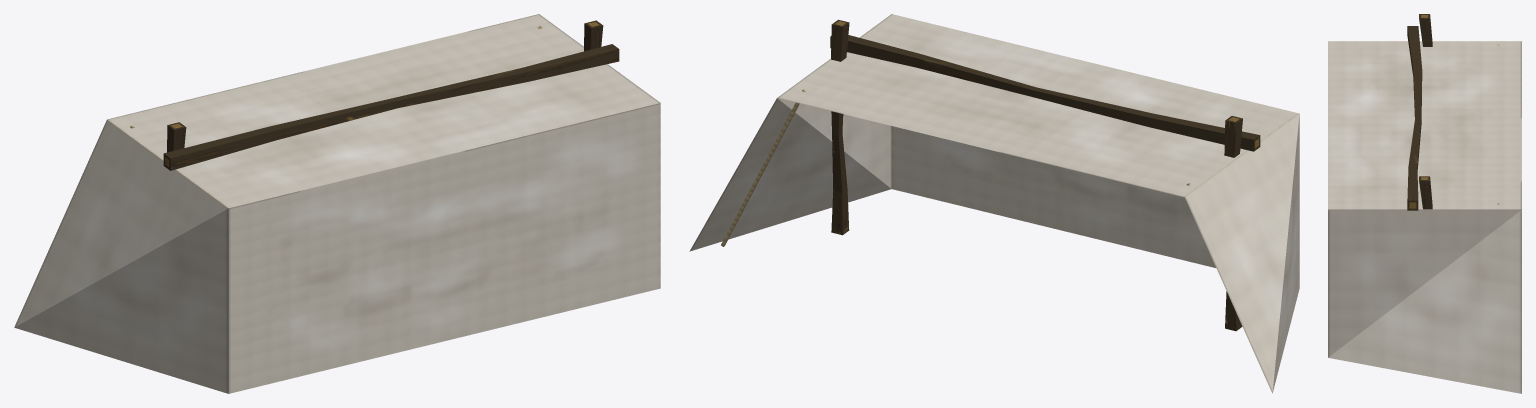
File: tent.obj
The picture shows the model from 3 angles, left to right: view 1: azimuth 30°, elevation 25°; view 2: azimuth 150°, elevation 25°; view 3: azimuth 270°, elevation 25°; orthographic projection. The views are drawn at different scales.
Visible parts, largest first — view 1: Mesh01_Mesh01.002, Mesh04_Mesh04.002; view 2: Mesh01_Mesh01.002, Mesh04_Mesh04.002, Mesh06_Mesh06.001, Mesh05_Mesh05.002, Mesh03_Mesh03.002; view 3: Mesh01_Mesh01.002, Mesh04_Mesh04.002, Mesh06_Mesh06.001, Mesh05_Mesh05.002.
Part boxes in pixels (x1,y1,x2,y2): Mesh01_Mesh01.002: (14,14,660,393); Mesh04_Mesh04.002: (163,44,619,170); Mesh01_Mesh01.002: (689,14,1299,393); Mesh04_Mesh04.002: (830,35,1260,151); Mesh06_Mesh06.001: (831,19,849,235); Mesh05_Mesh05.002: (1224,116,1242,331); Mesh03_Mesh03.002: (721,89,806,246); Mesh01_Mesh01.002: (1328,41,1521,393); Mesh04_Mesh04.002: (1407,26,1422,210); Mesh06_Mesh06.001: (1419,176,1432,209); Mesh05_Mesh05.002: (1419,14,1432,46).
Bounding box in the file's own units: 3.12 × 1.07 × 1.06.
